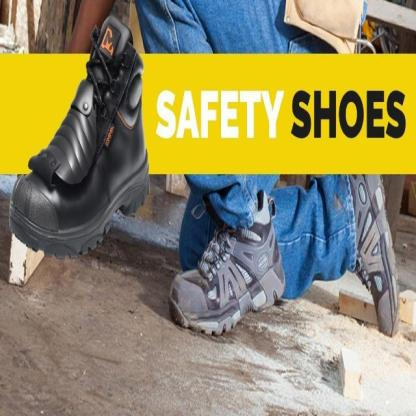bota: (5, 11, 159, 263)
